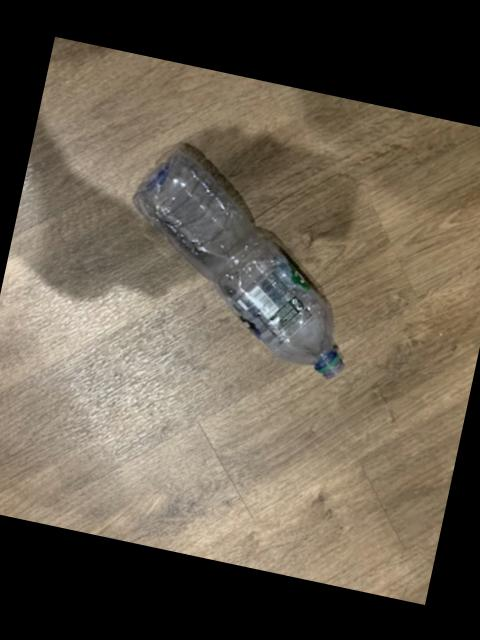plastic: (137, 143, 346, 375)
